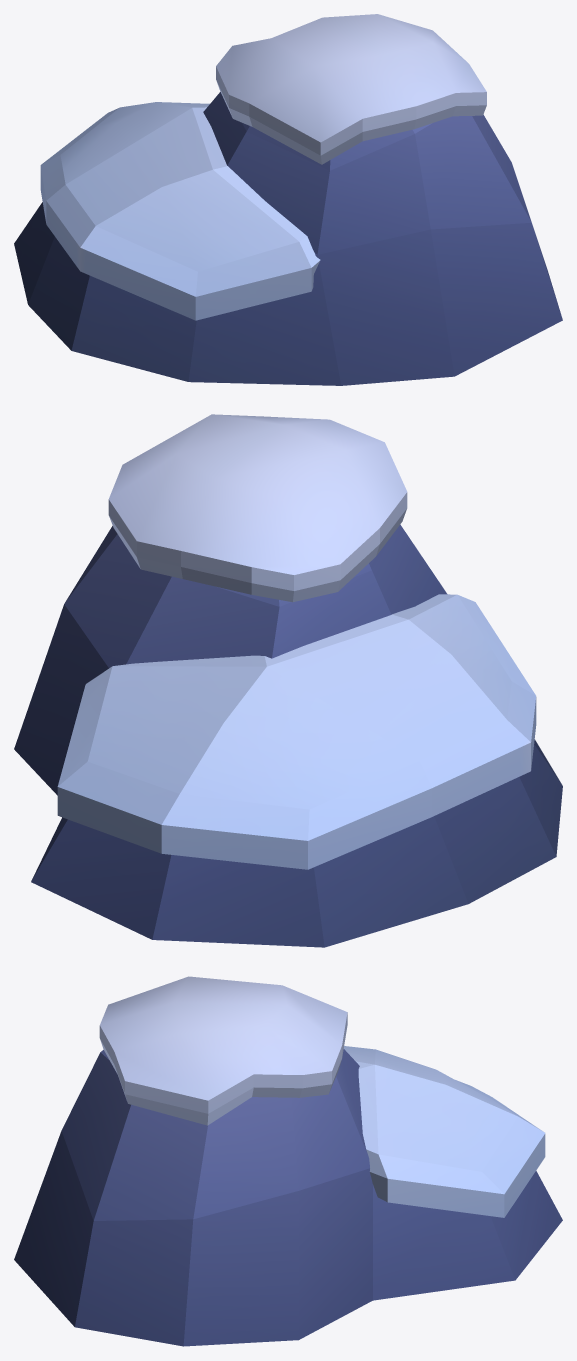
Rendered from rock02.fbx.
3 views of the same model, one above another, from view 1: azimuth 30°, elevation 25°; view 2: azimuth 150°, elevation 25°; view 3: azimuth 270°, elevation 25° (orthographic). The views are drawn at different scales.
Parts seen in each view (by area): view 1: rock02; view 2: rock02; view 3: rock02.
Part boxes in pixels (left/top/right/bottom): rock02: left=14, top=14, right=562, bottom=385; rock02: left=14, top=414, right=562, bottom=947; rock02: left=14, top=976, right=562, bottom=1346.
Size of the model in its own units: 0.7579 by 0.4295 by 0.823.
